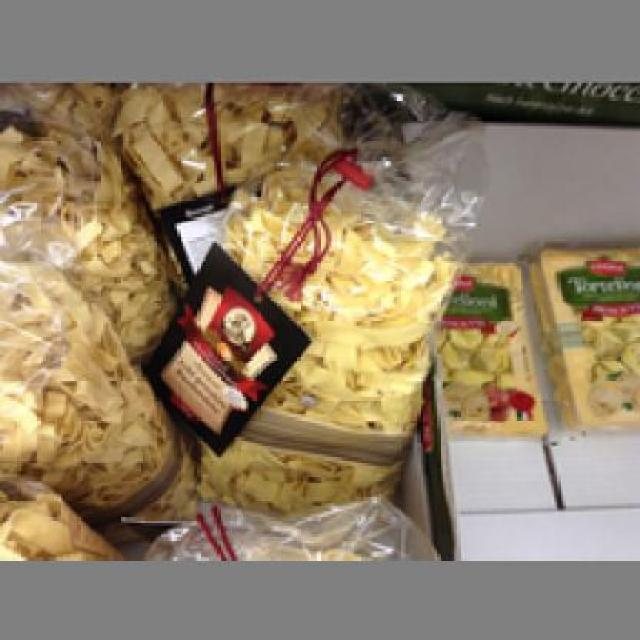Pasta: (183, 143, 460, 503), (528, 237, 634, 432)
